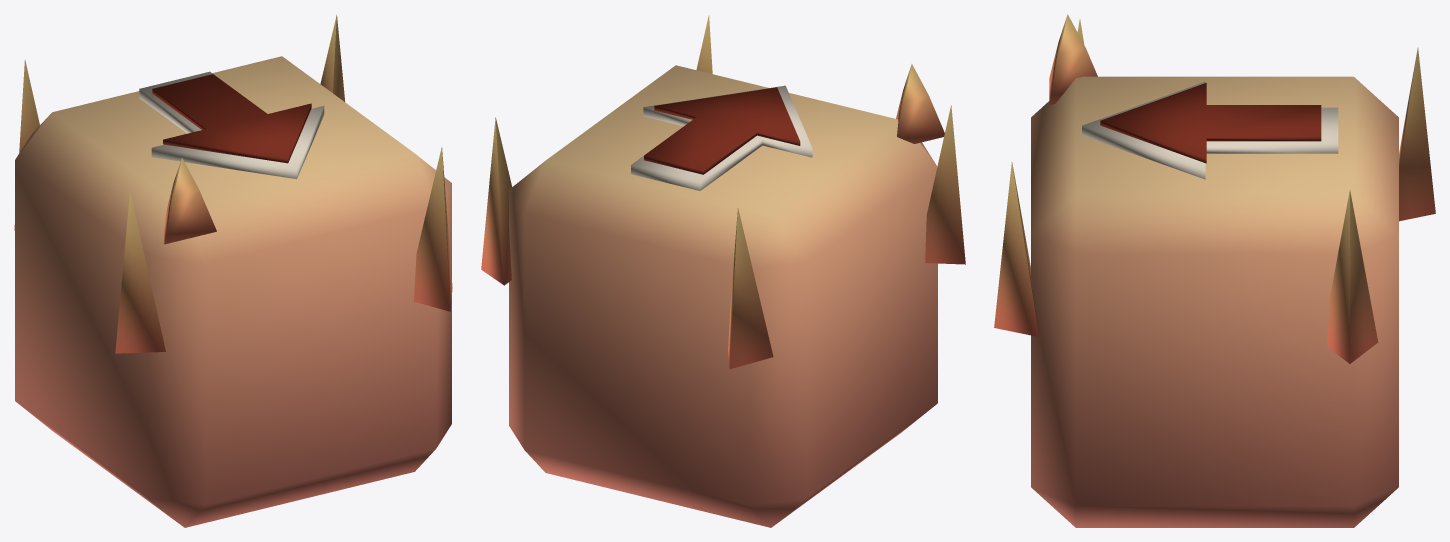
File: ates_lod2.glb
3 views of the same model, side by side, from view 1: azimuth 30°, elevation 25°; view 2: azimuth 150°, elevation 25°; view 3: azimuth 270°, elevation 25° (orthographic). The views are drawn at different scales.
Visible parts, largest first — view 1: ates_lod2; view 2: ates_lod2; view 3: ates_lod2.
Part boxes in pixels (left/top/right/bottom): ates_lod2: left=14, top=14, right=452, bottom=527; ates_lod2: left=481, top=15, right=965, bottom=527; ates_lod2: left=994, top=14, right=1435, bottom=527.
Bounding box in the file's own units: 1.08 × 1.06 × 1.08.
